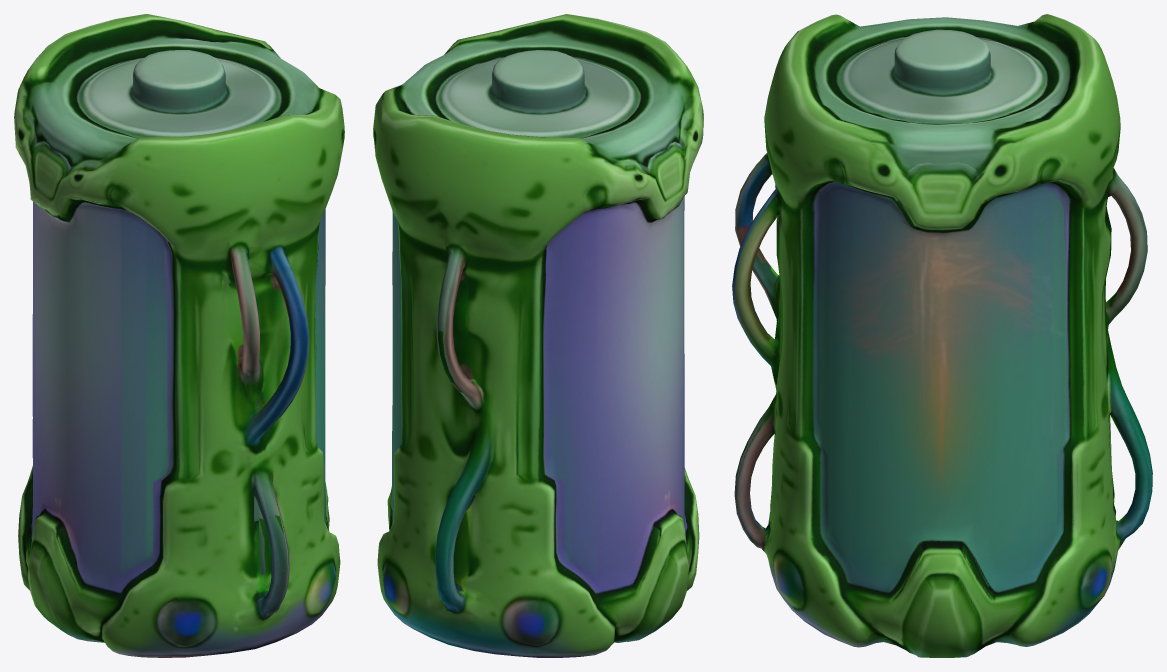
File: SmallBattery.fbx
3 views of the same model, side by side, from view 1: azimuth 30°, elevation 25°; view 2: azimuth 150°, elevation 25°; view 3: azimuth 270°, elevation 25° (orthographic). The views are drawn at different scales.
Parts seen in each view (by area): view 1: tripo_node_5cde02c1; view 2: tripo_node_5cde02c1; view 3: tripo_node_5cde02c1.
Boxes of the visible parts, bbox=[...] form: tripo_node_5cde02c1: bbox=[14, 14, 344, 657]; tripo_node_5cde02c1: bbox=[373, 14, 703, 657]; tripo_node_5cde02c1: bbox=[732, 14, 1152, 657].
Bounding box in the file's own units: 0.5598 × 0.9994 × 0.675.
1 material, 1 textured.
